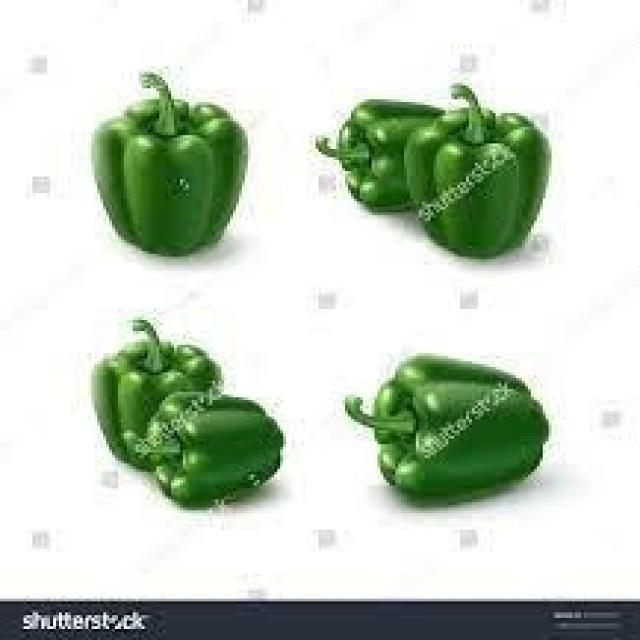bell_pepper: (94, 73, 256, 261)
